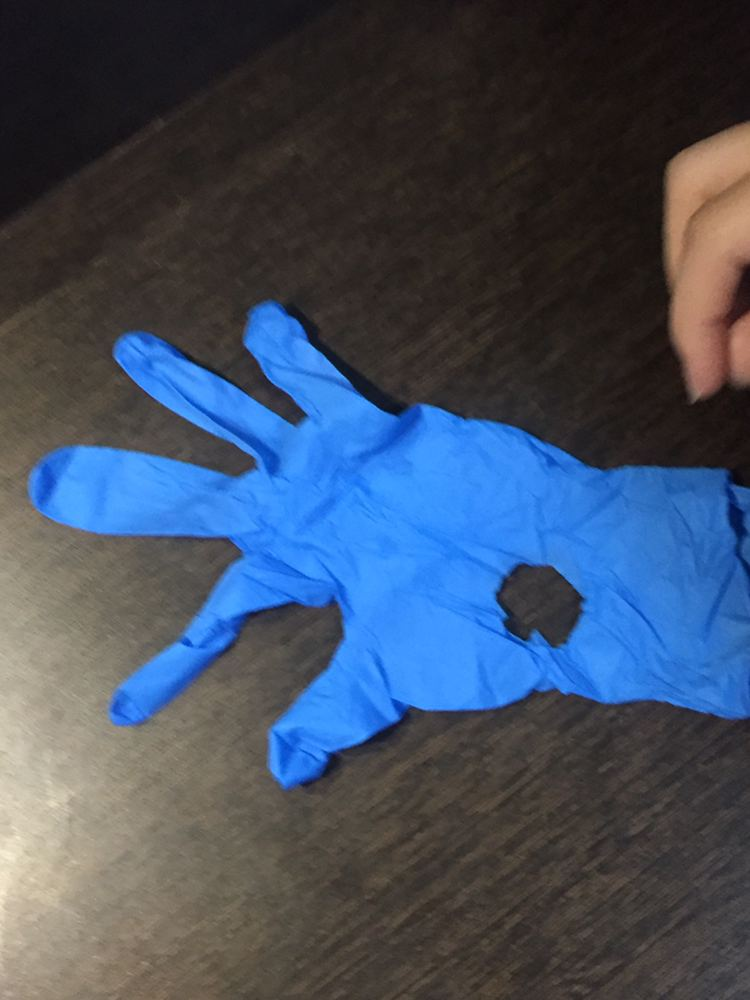defected: (24, 307, 750, 796)
